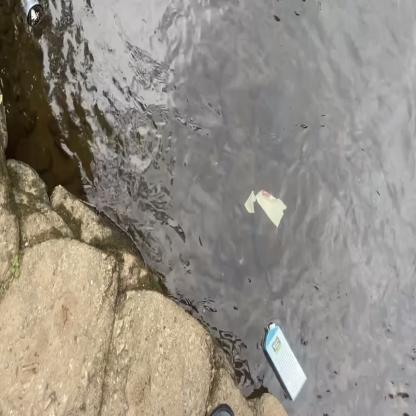trash: (260, 314, 308, 404), (242, 186, 288, 229), (20, 0, 46, 33)
